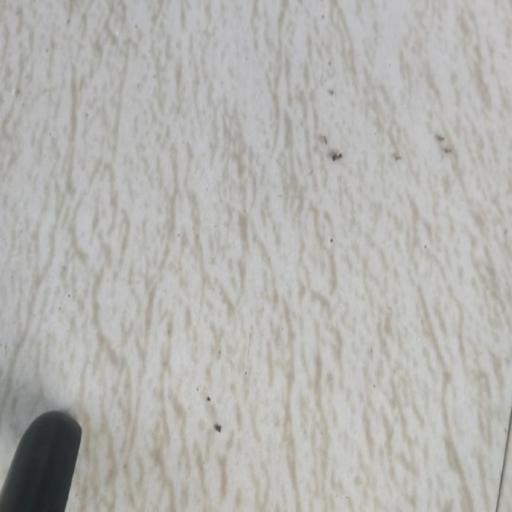Ant-Traffic: (389, 122, 411, 199), (328, 137, 350, 189), (312, 112, 330, 168), (426, 110, 447, 144)
